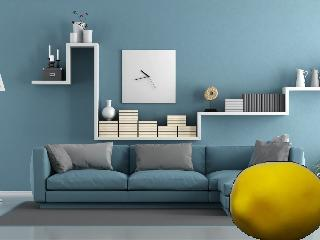lemon: (229, 161, 319, 240)
